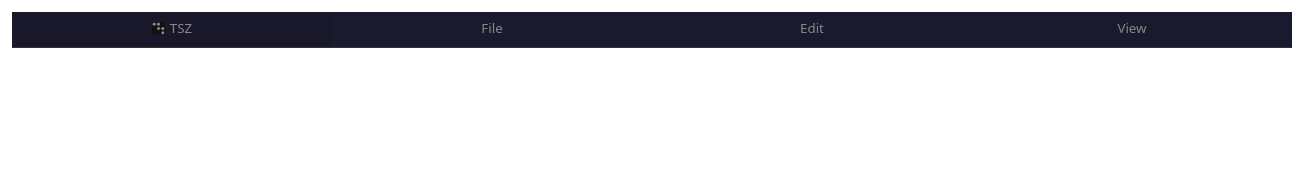
Test case: clicking TSZ tab shows TSZ menu items
Click the button "TSZ" at (172, 30), box [12, 12, 332, 47]
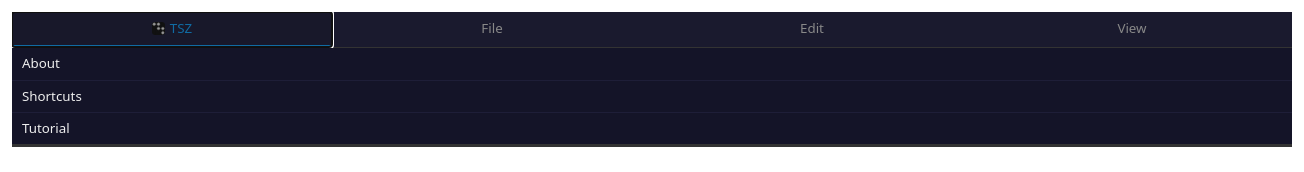
Result: the text "About" is shown at [22, 54, 60, 72]
Result: the text "Shortcuts" is shown at [22, 87, 82, 105]
Result: the text "Tutorial" is shown at [22, 119, 70, 137]
